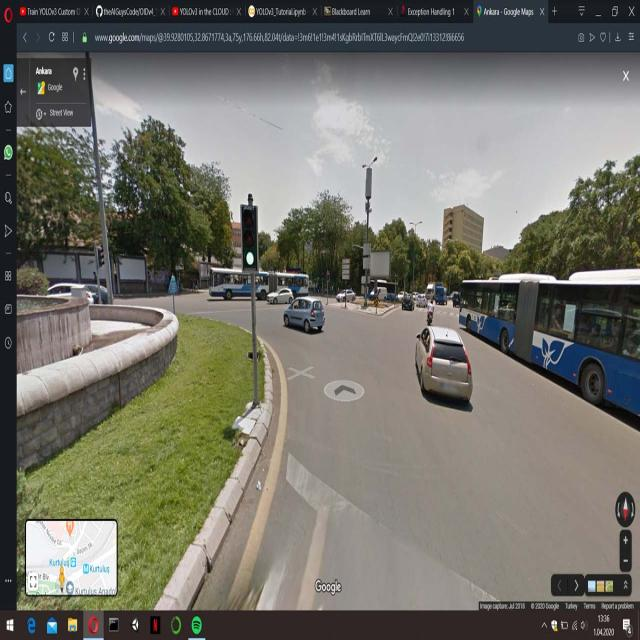yesil: (241, 206, 257, 271)
